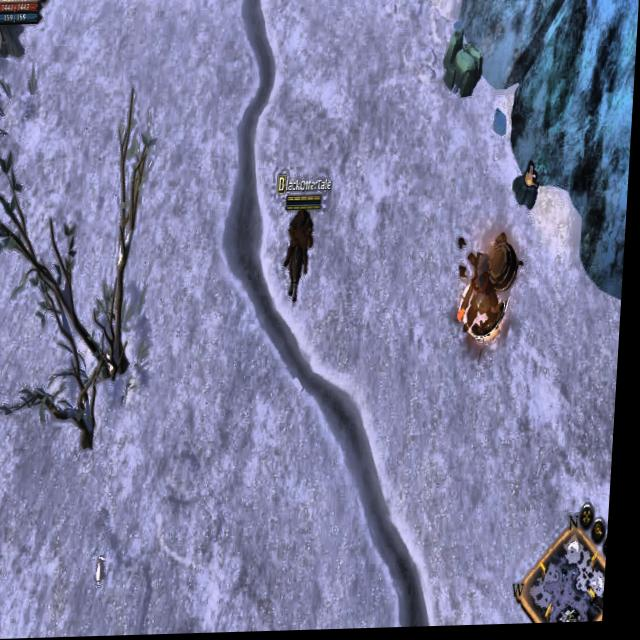copperore: (511, 158, 545, 217)
sandstone: (441, 33, 487, 104)
